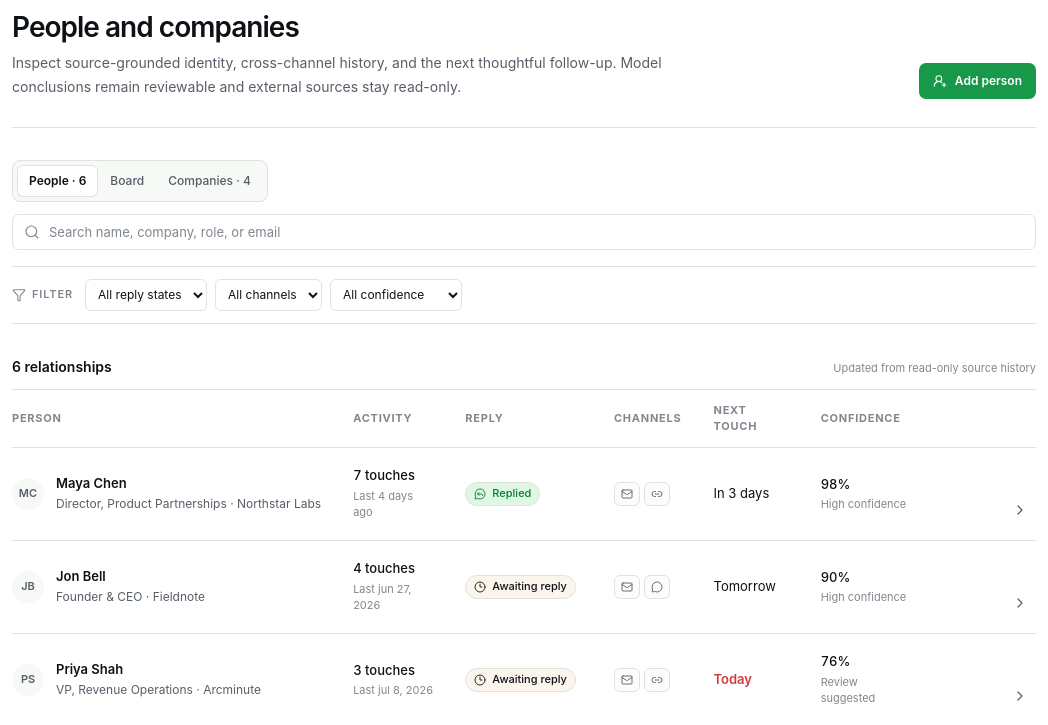
it: people and company workspace › moves a relationship across the board and persists through the stage action
The image size is (1048, 725).
Click the button "Board": (127, 181) [98,165,156,197]
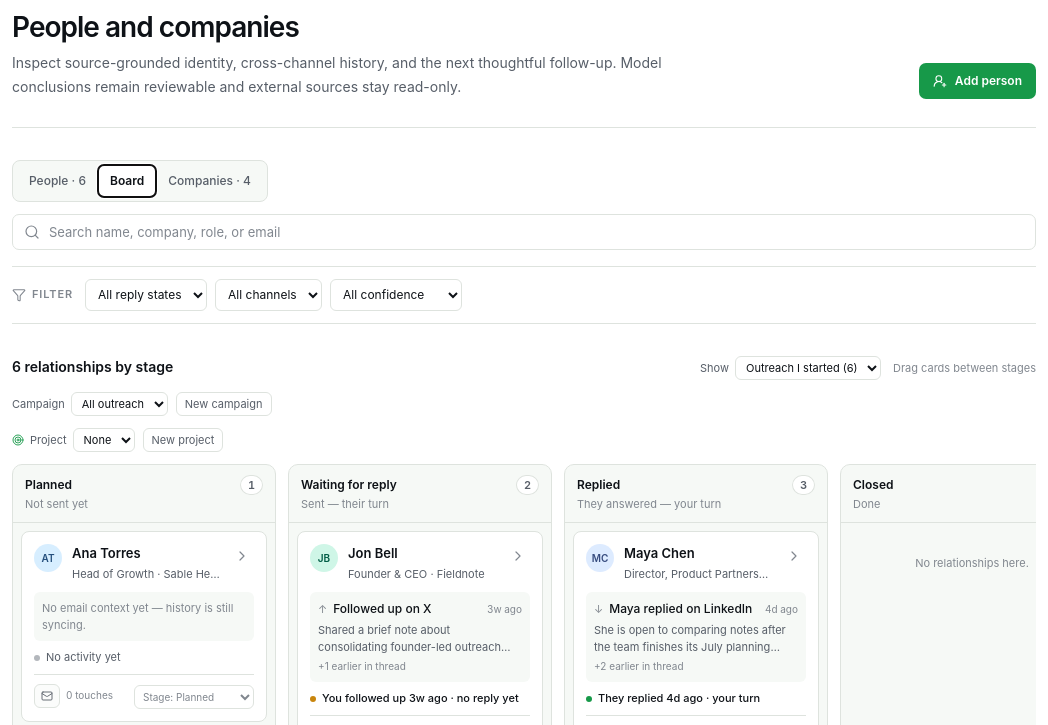
Result: the heading "6 relationships by stage" is shown at [12,356,173,377]
Select "Stage: Replied" in the dropdown named "Move Ana Torres to a stage" below "No activity yet": (194, 697) [134,685,254,709]
(page scrolled)
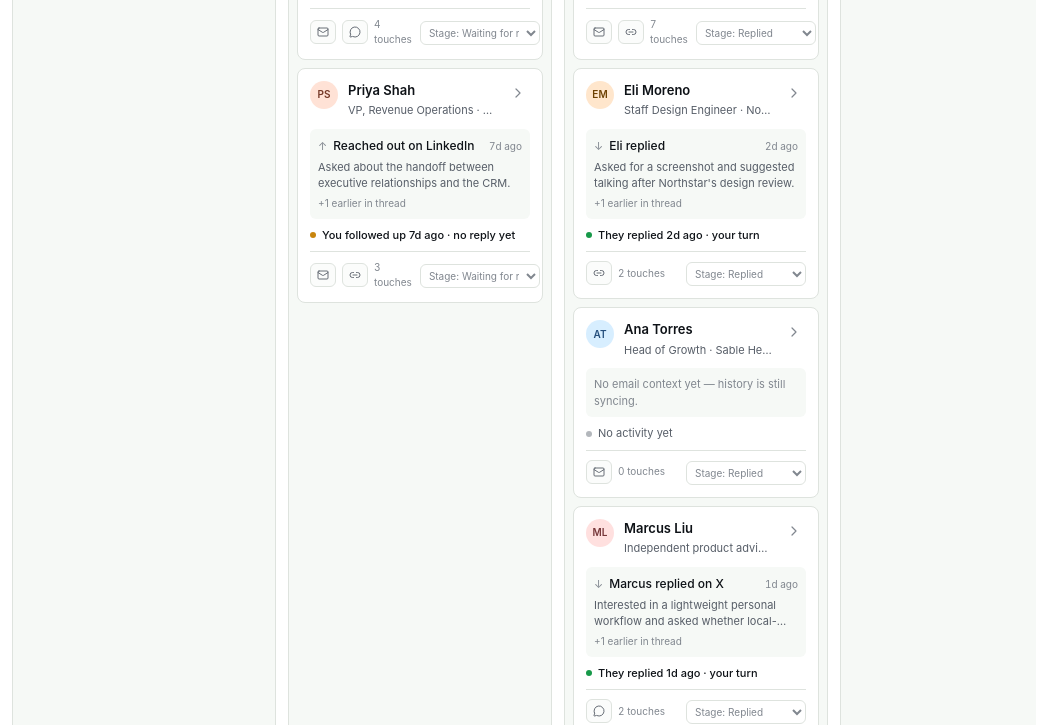
Result: the dropdown named "Move Ana Torres to a stage" below "No activity yet" shows "Stage: Replied" at [686,461,806,485]
